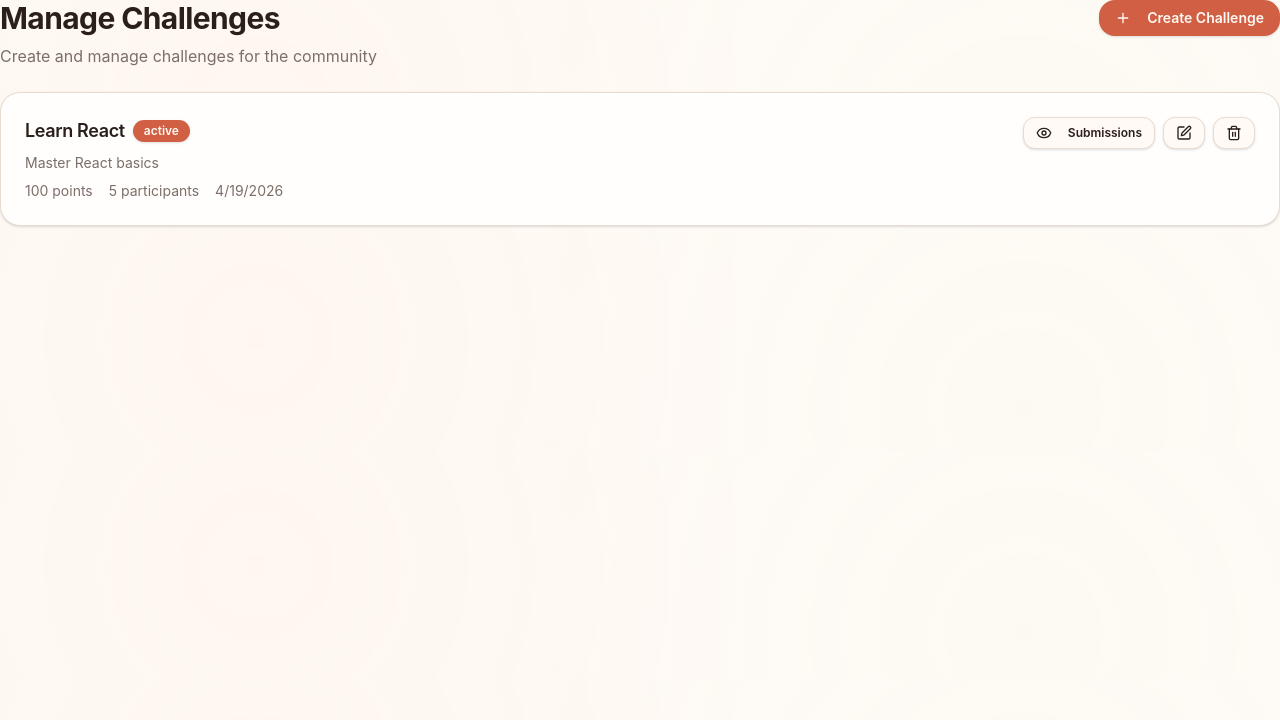
AdminChallengesPage › Delete Challenge › should open delete confirmation dialog when clicking delete button
Expected: the heading "Learn React" is shown, [25,117,125,145]
Find delete button (last icon button)
Click the 4th button: (1234, 133) [1213,117,1255,149]
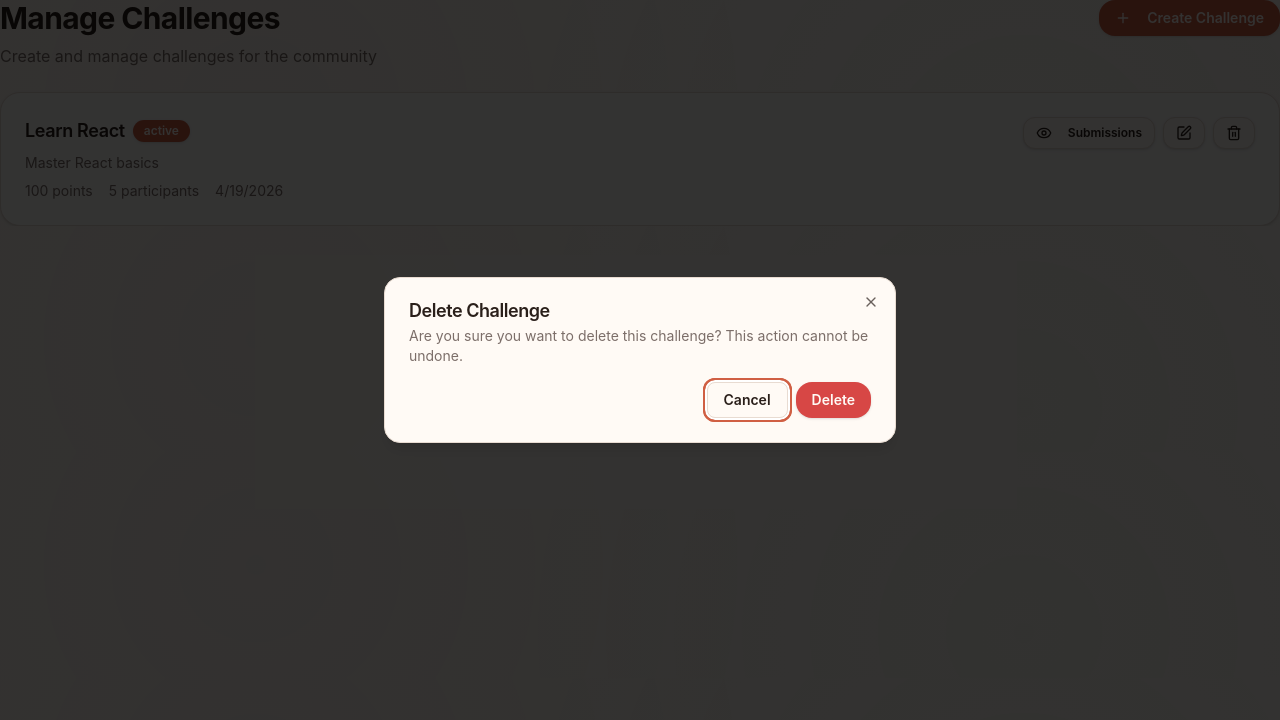
Expected: the heading "Delete Challenge" is shown, [409,300,550,321]
Expected: the text "Are you sure you want to delete this challenge" is shown, [409,327,868,364]
